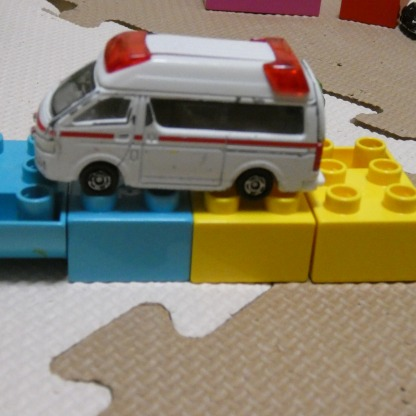car: (30, 28, 325, 200)
